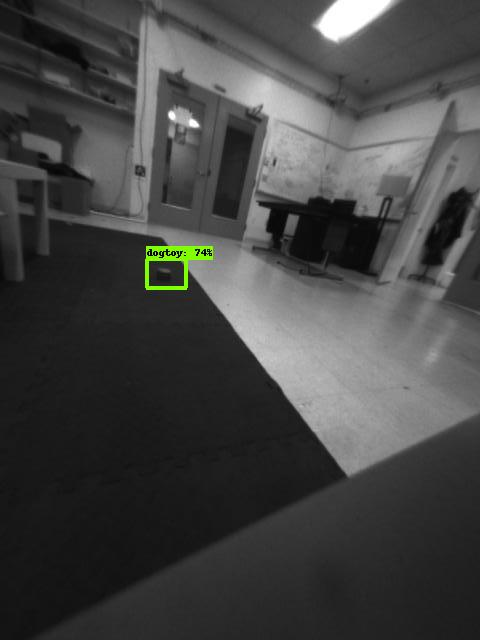dogtoy: (148, 260, 190, 288)
